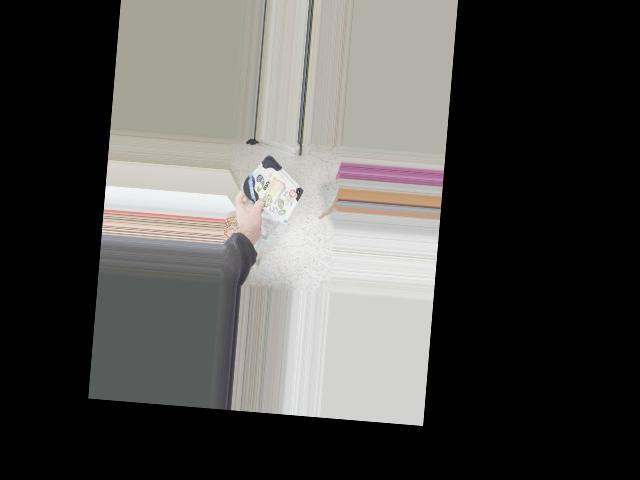cheese: (237, 154, 311, 220)
